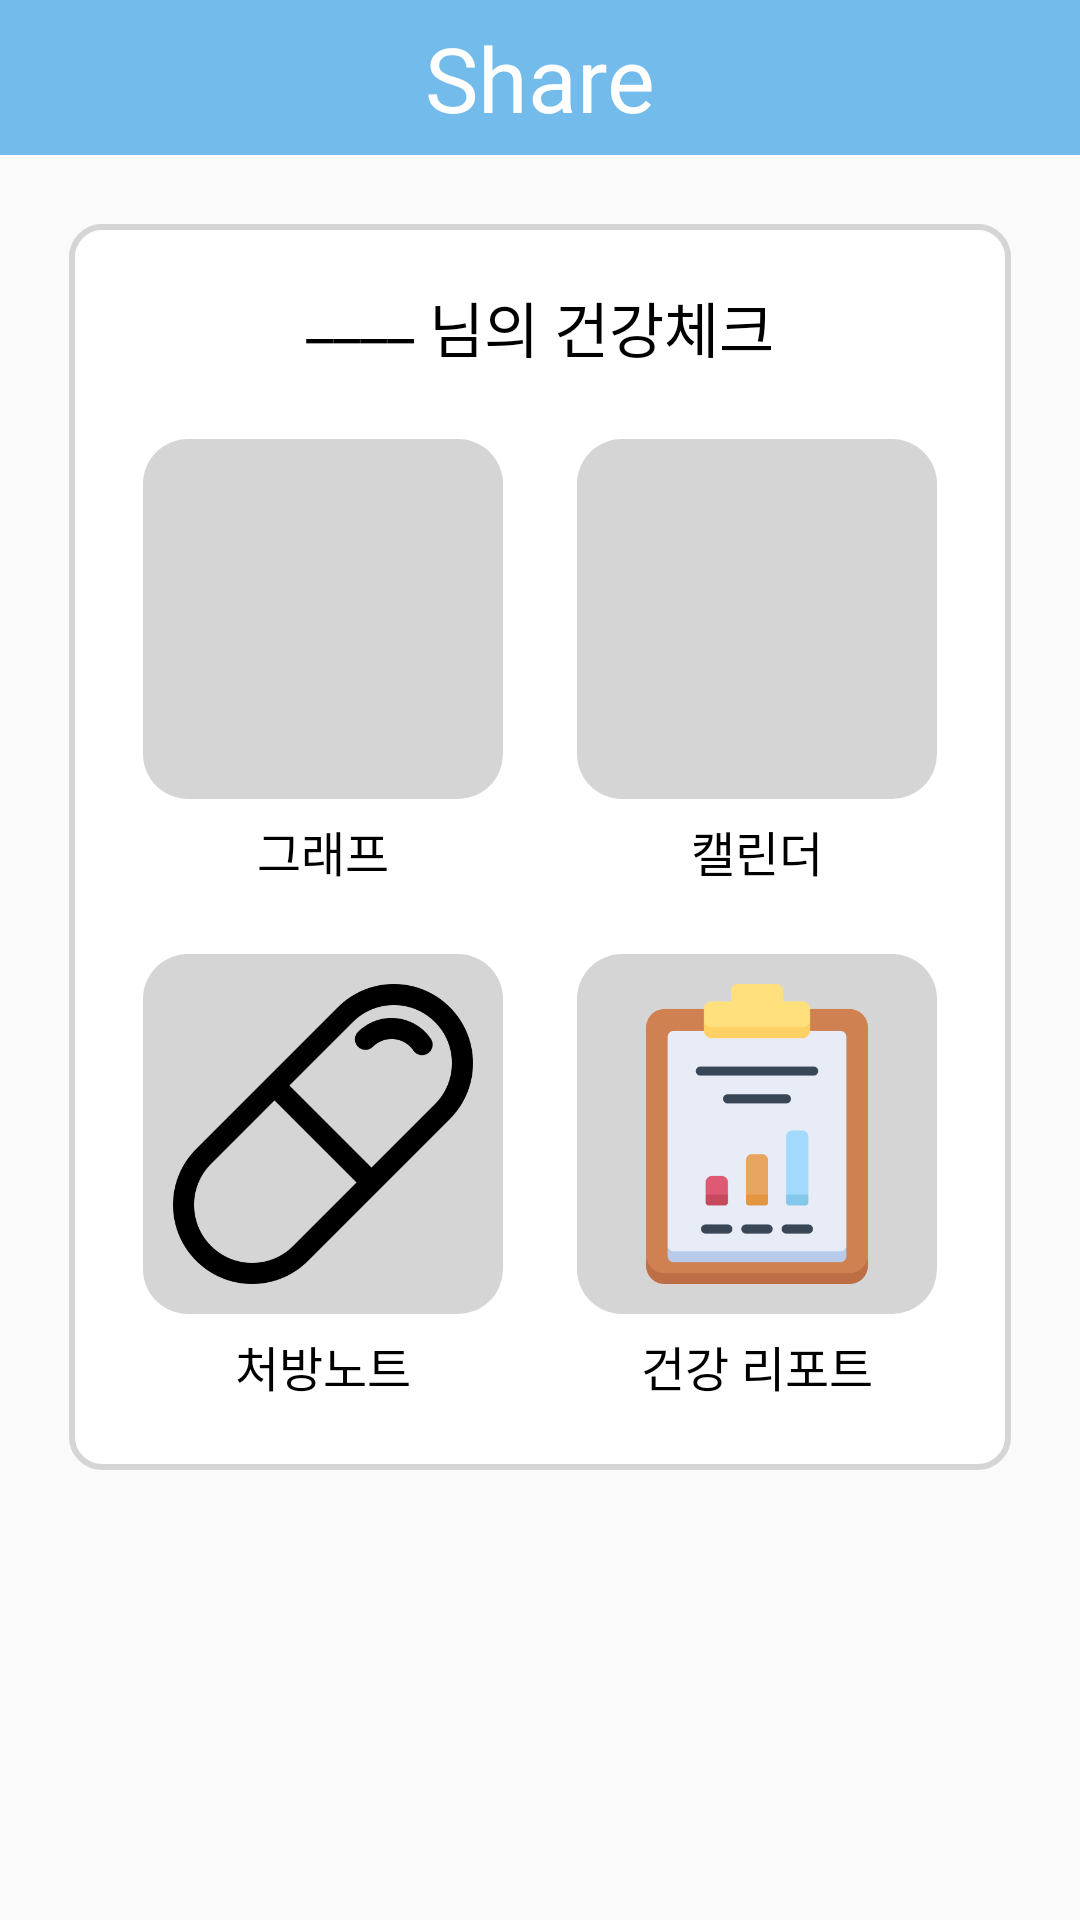

Point at icon controls on the screen. Image size 1080×1920, points as (x,y).
share prescription: (323,1134)
share report: (757,1134)
